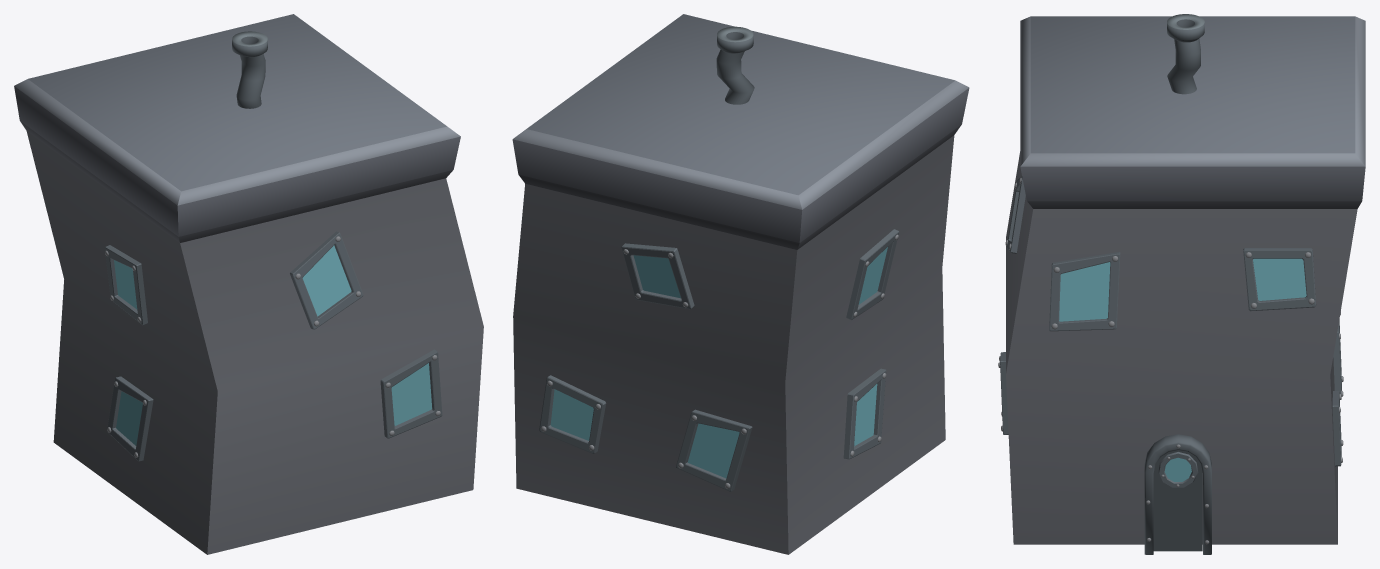
Rendered from building2.fbx.
3 views of the same model, side by side, from view 1: azimuth 30°, elevation 25°; view 2: azimuth 150°, elevation 25°; view 3: azimuth 270°, elevation 25° (orthographic). The views are drawn at different scales.
Visible parts, largest first — view 1: sb_bb_bbox3; view 2: sb_bb_bbox3; view 3: sb_bb_bbox3.
Boxes of the visible parts, x1,y1,x2,y2 form: sb_bb_bbox3: (14, 14, 483, 554); sb_bb_bbox3: (512, 14, 969, 554); sb_bb_bbox3: (998, 14, 1365, 554).
Size of the model in its own units: 236 by 306 by 227.
Materials: 1 (1 with a texture image).
